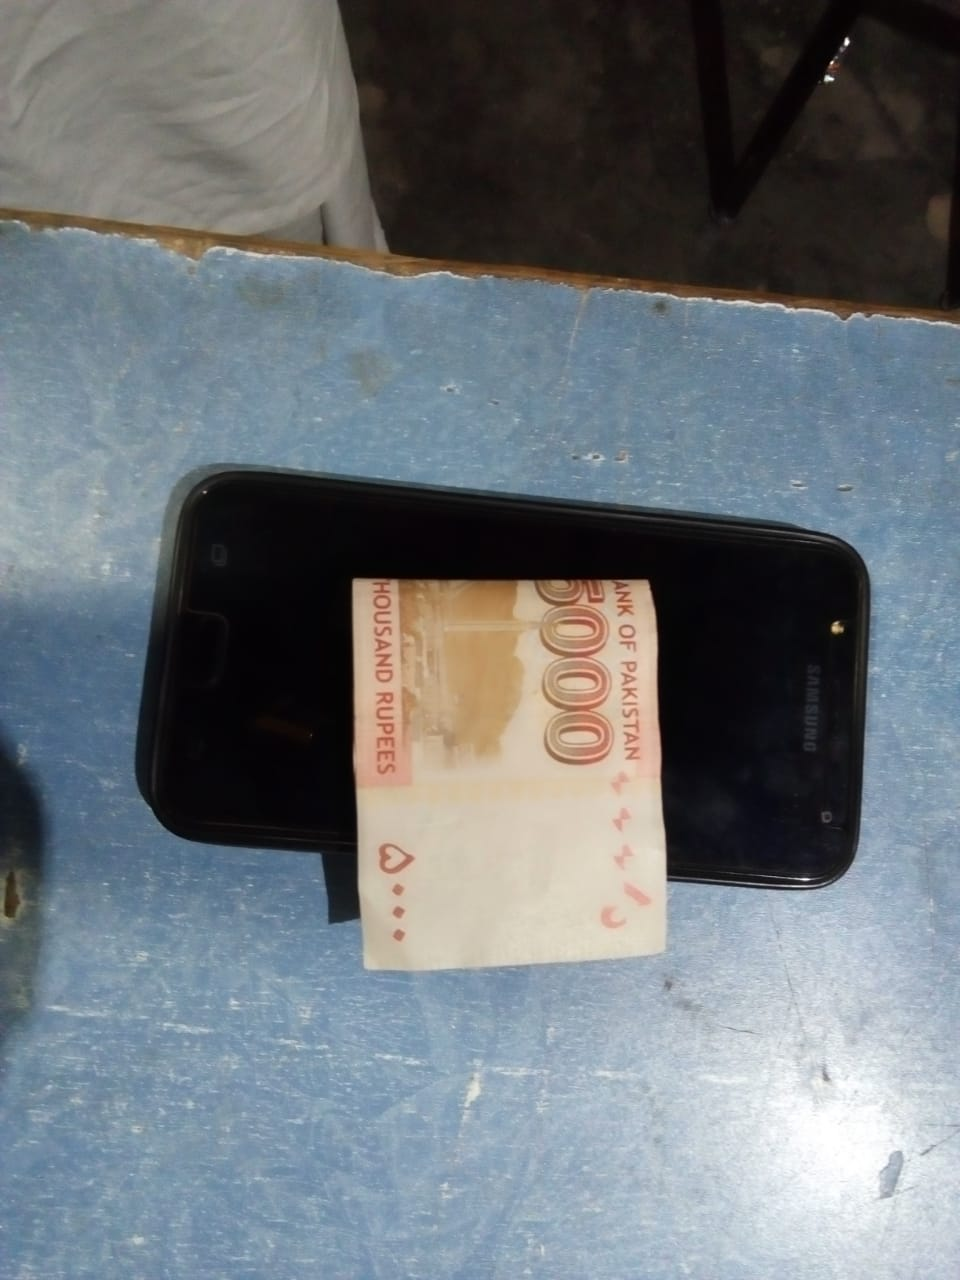5000 rupee: (347, 547, 706, 1029)
